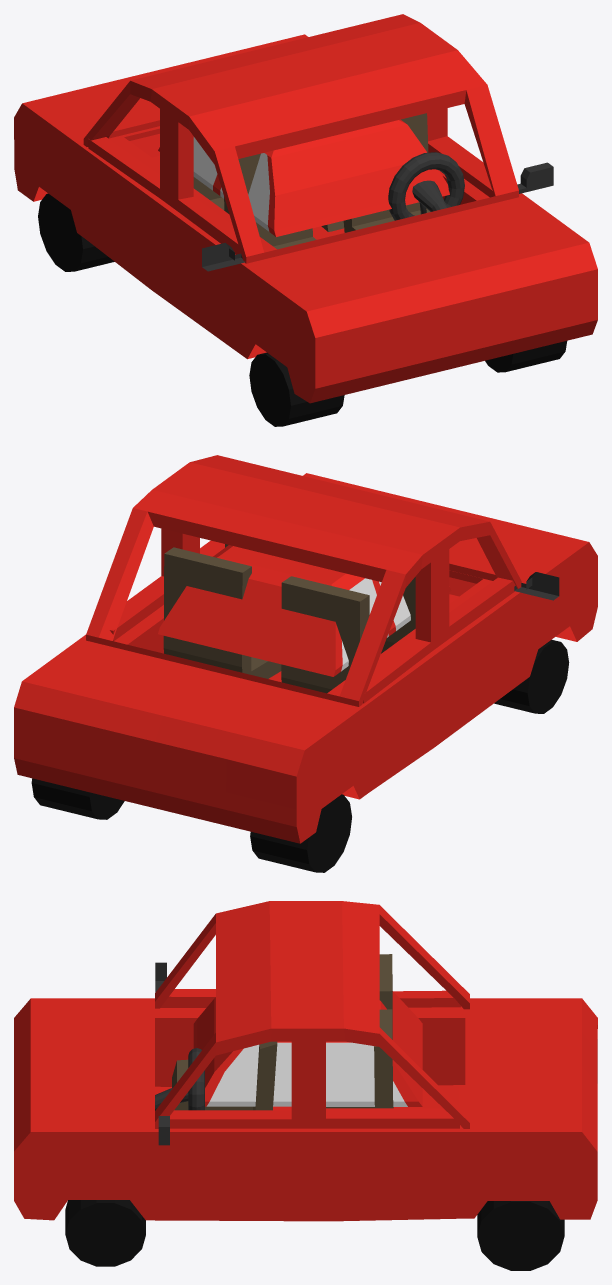
File: PS1car.fbx
3 views of the same model, one above another, from view 1: azimuth 30°, elevation 25°; view 2: azimuth 150°, elevation 25°; view 3: azimuth 270°, elevation 25° (orthographic). The views are drawn at different scales.
Parts seen in each view (by area): view 1: Cube, Cube.002, Cube.001, Cylinder.001, Cylinder.002, Cube.003, Torus, Cube.005, Cylinder, Cube.004; view 2: Cube, Cube.002, Cube.001, Cube.004, Cylinder.002, Cylinder.001, Cube.005, Cube.003; view 3: Cube, Cube.002, Cube.001, Cylinder.002, Cylinder.001, Cube.004, Cube.003, Torus, Cube.005.
Part boxes in pixels (x1,y1,x2,y2): Cube: (14,34,597,403); Cube.002: (83,14,518,263); Cube.001: (158,119,449,236); Cylinder.001: (249,341,567,426); Cylinder.002: (38,193,114,271); Cube.003: (224,113,429,249); Torus: (388,152,464,220); Cube.005: (202,162,553,271); Cylinder: (412,180,447,211); Cube.004: (193,177,344,231); Cube: (14,473,597,843); Cube.002: (86,455,521,706); Cube.001: (158,545,451,676); Cube.004: (163,547,369,693); Cylinder.002: (31,778,351,872); Cylinder.001: (494,639,569,713); Cube.005: (514,572,559,600); Cube.003: (225,544,415,653); Cube: (14,998,597,1221); Cube.002: (155,901,469,1128); Cube.001: (193,991,422,1106); Cylinder.002: (477,1201,564,1270); Cylinder.001: (65,1200,145,1266); Cube.004: (326,954,393,1108); Cube.003: (172,1041,277,1110); Torus: (188,1048,204,1110); Cube.005: (155,962,169,1145).
Size of the model in its own units: 1159 by 787 by 1741.
